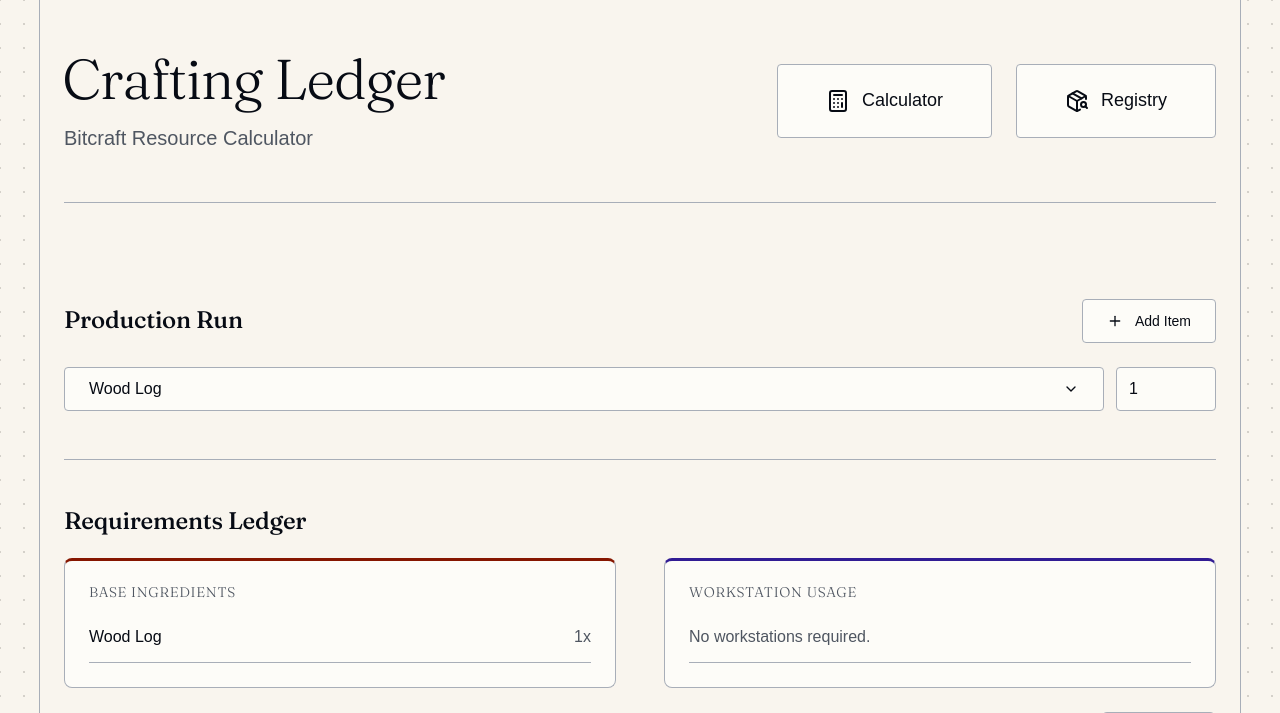
Test: Multi-target UI › should remove a target row and hide trash when only one remains
# Add a second row
Click the button "Add Item" at (1149, 321), box 1082,299 -> 1216,343
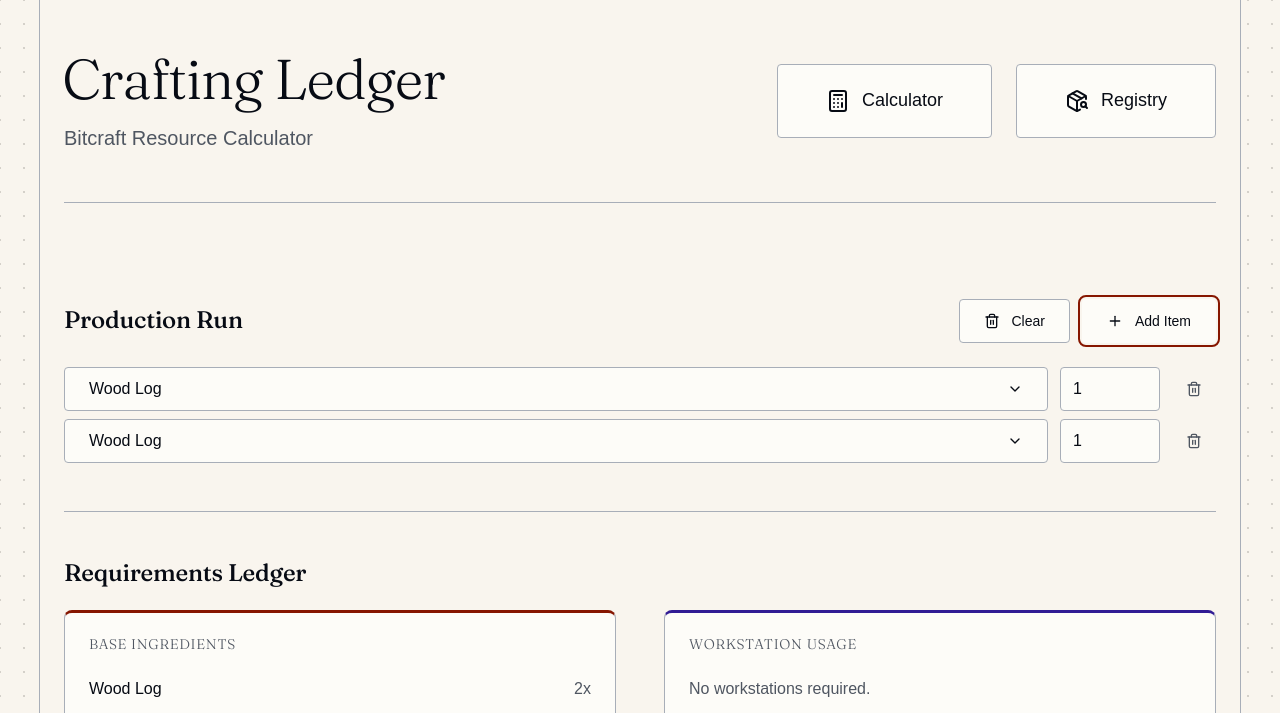
expect the number of buttons named "remove target" is 2: met
# Remove the second row
Click the button named "remove target" at (1194, 441), box 1172,419 -> 1216,463
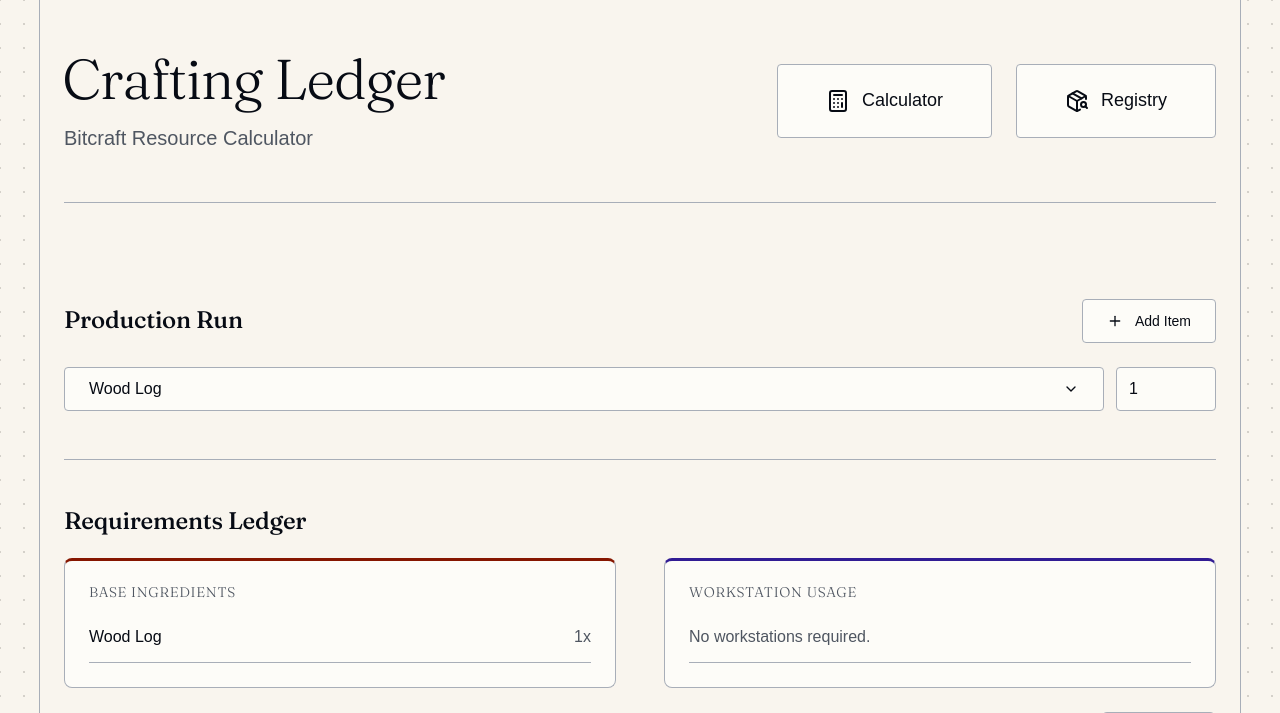
expect the number of dropdowns named "target item" is 1: met, box 64,367 -> 1104,411
